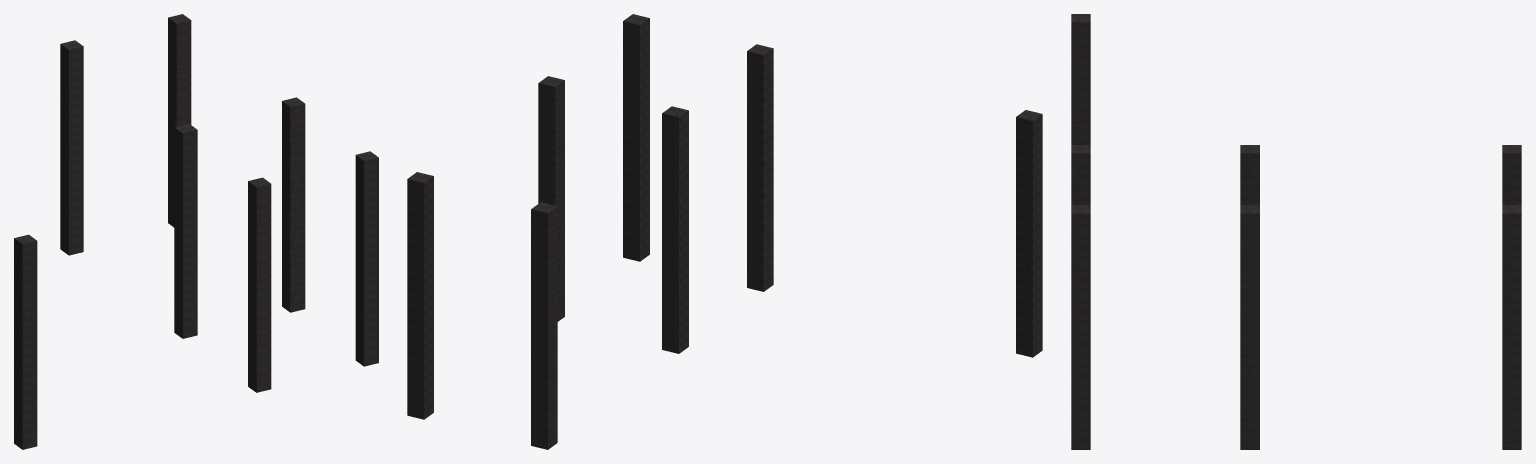
The picture shows the model from 3 angles, left to right: view 1: azimuth 30°, elevation 25°; view 2: azimuth 150°, elevation 25°; view 3: azimuth 270°, elevation 25°; orthographic projection. The views are drawn at different scales.
Parts seen in each view (by area): view 1: Columns_Rectangular 300 x 300 mm [685662]001, Columns_Rectangular 300 x 300 mm [685329]001, Columns_Rectangular 300 x 300 mm [685460]001, Columns_Rectangular 300 x 300 mm [685765]001, Columns_Rectangular 300 x 300 mm [685232]001, Columns_Rectangular 300 x 300 mm [685549]001, Columns_Rectangular 300 x 300 mm [686000]001; view 2: Columns_Rectangular 300 x 300 mm [685765]001, Columns_Rectangular 300 x 300 mm [685232]001, Columns_Rectangular 300 x 300 mm [685460]001, Columns_Rectangular 300 x 300 mm [685662]001, Columns_Rectangular 300 x 300 mm [686000]001, Columns_Rectangular 300 x 300 mm [685329]001, Columns_Rectangular 300 x 300 mm [685549]001; view 3: Columns_Rectangular 300 x 300 mm [685460]001, Columns_Rectangular 300 x 300 mm [685549]001, Columns_Rectangular 300 x 300 mm [686000]001, Columns_Rectangular 300 x 300 mm [685232]001, Columns_Rectangular 300 x 300 mm [685329]001, Columns_Rectangular 300 x 300 mm [685662]001, Columns_Rectangular 300 x 300 mm [685765]001.
Part boxes in pixels (x1,y1,x2,y2): Columns_Rectangular 300 x 300 mm [685662]001: [174, 123, 197, 338]; Columns_Rectangular 300 x 300 mm [685329]001: [248, 177, 271, 392]; Columns_Rectangular 300 x 300 mm [685460]001: [355, 151, 378, 366]; Columns_Rectangular 300 x 300 mm [685765]001: [60, 40, 83, 255]; Columns_Rectangular 300 x 300 mm [685232]001: [14, 234, 37, 449]; Columns_Rectangular 300 x 300 mm [685549]001: [282, 97, 305, 312]; Columns_Rectangular 300 x 300 mm [686000]001: [168, 14, 191, 227]; Columns_Rectangular 300 x 300 mm [685765]001: [531, 202, 557, 449]; Columns_Rectangular 300 x 300 mm [685232]001: [1016, 110, 1042, 357]; Columns_Rectangular 300 x 300 mm [685460]001: [623, 14, 649, 261]; Columns_Rectangular 300 x 300 mm [685662]001: [662, 106, 688, 353]; Columns_Rectangular 300 x 300 mm [686000]001: [407, 172, 433, 419]; Columns_Rectangular 300 x 300 mm [685329]001: [747, 44, 773, 291]; Columns_Rectangular 300 x 300 mm [685549]001: [538, 76, 564, 321]; Columns_Rectangular 300 x 300 mm [685460]001: [1071, 205, 1090, 449]; Columns_Rectangular 300 x 300 mm [685549]001: [1240, 205, 1259, 449]; Columns_Rectangular 300 x 300 mm [686000]001: [1502, 205, 1521, 449]; Columns_Rectangular 300 x 300 mm [685232]001: [1071, 14, 1090, 144]; Columns_Rectangular 300 x 300 mm [685329]001: [1071, 145, 1090, 205]; Columns_Rectangular 300 x 300 mm [685662]001: [1240, 145, 1259, 205]; Columns_Rectangular 300 x 300 mm [685765]001: [1502, 145, 1521, 205].
Bounding box in the file's own units: 7.25 × 4 × 6.91.
Materials: 1 (1 with a texture image).
